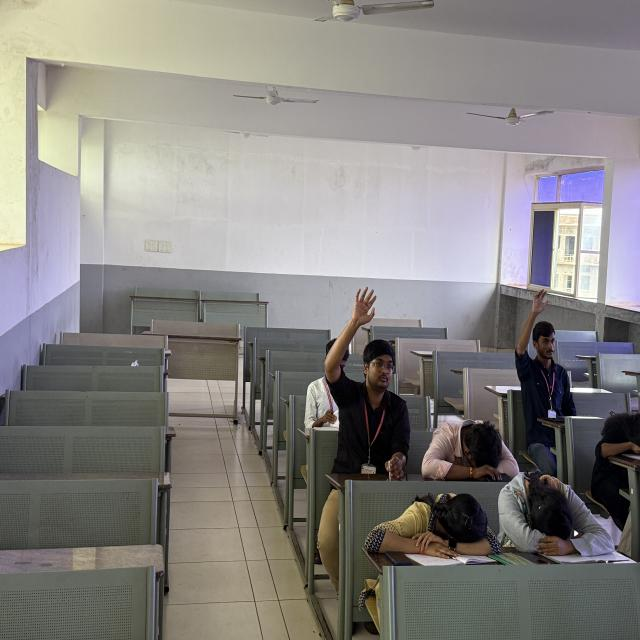Hand Rising: (315, 280, 415, 463), (514, 284, 570, 403)
Sleeping: (355, 474, 505, 565), (489, 468, 621, 566), (417, 412, 528, 493), (591, 394, 640, 495)
